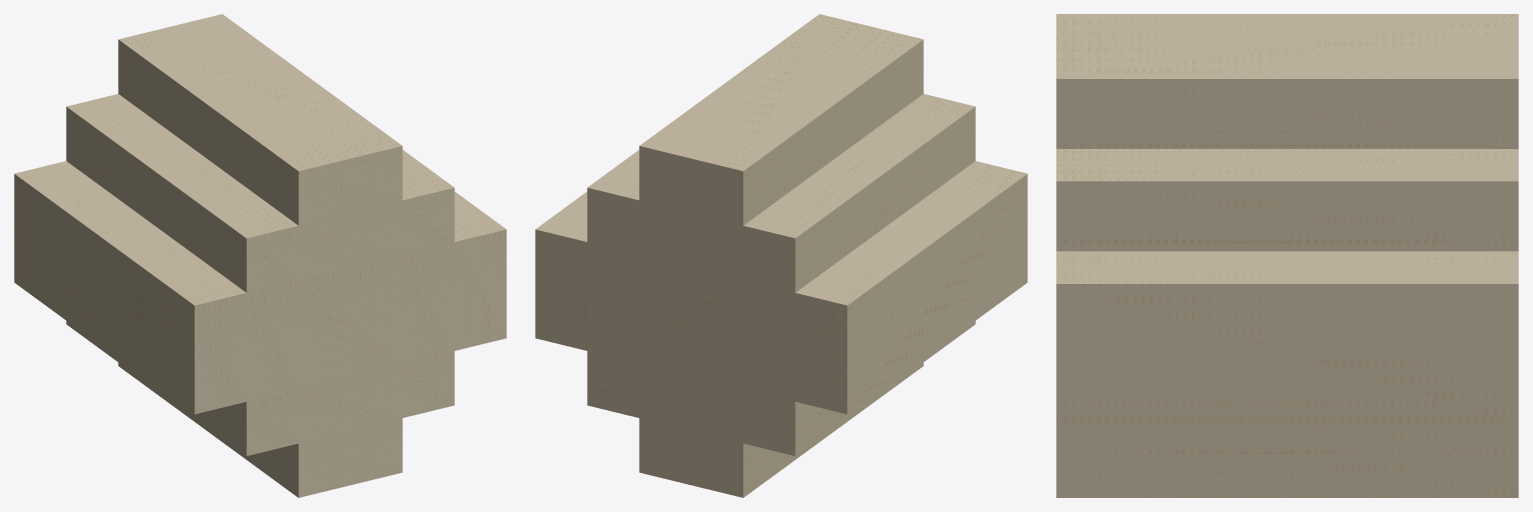
Rendered from StrippedLog.obj.
The picture shows the model from 3 angles, left to right: view 1: azimuth 30°, elevation 25°; view 2: azimuth 150°, elevation 25°; view 3: azimuth 270°, elevation 25°; orthographic projection. The views are drawn at different scales.
Size of the model in its own units: 0.6 by 0.6 by 0.6.
